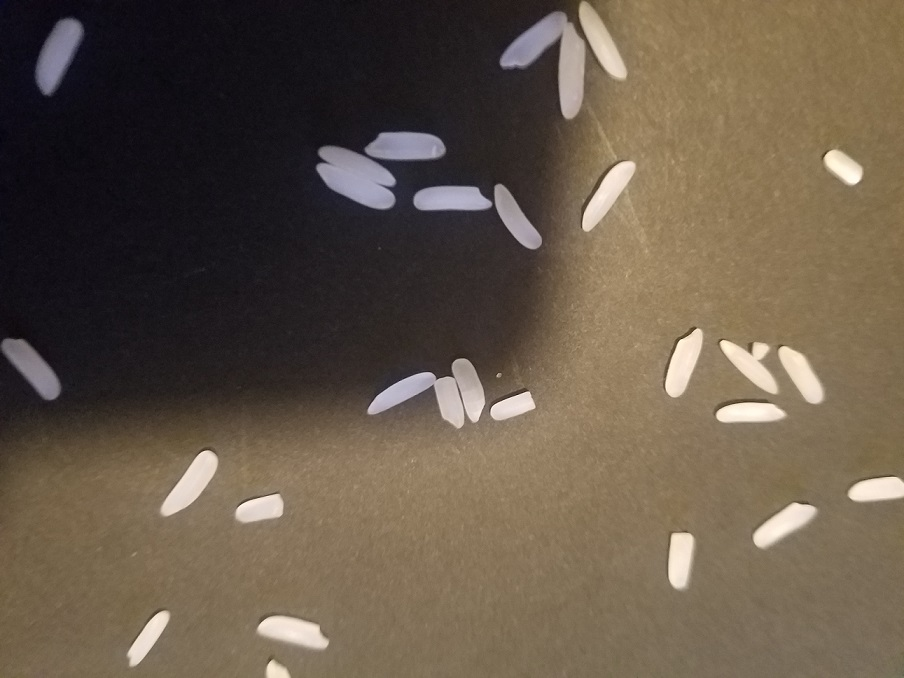egg: (577, 1, 631, 84), (498, 8, 568, 72), (580, 159, 639, 232), (161, 449, 223, 517), (1, 334, 62, 402), (316, 163, 398, 213), (34, 17, 83, 99), (718, 335, 780, 397), (751, 499, 820, 552), (317, 143, 396, 189), (492, 182, 544, 251), (364, 369, 436, 417), (555, 22, 588, 123), (659, 327, 704, 398), (776, 343, 826, 405), (254, 613, 331, 650), (123, 609, 171, 668), (449, 358, 487, 425), (364, 130, 446, 161), (411, 183, 492, 212), (667, 529, 696, 593), (487, 388, 538, 424), (432, 375, 464, 429), (233, 492, 285, 525), (822, 149, 865, 188), (712, 401, 788, 423), (845, 474, 904, 502), (263, 658, 289, 678), (749, 339, 771, 362)
